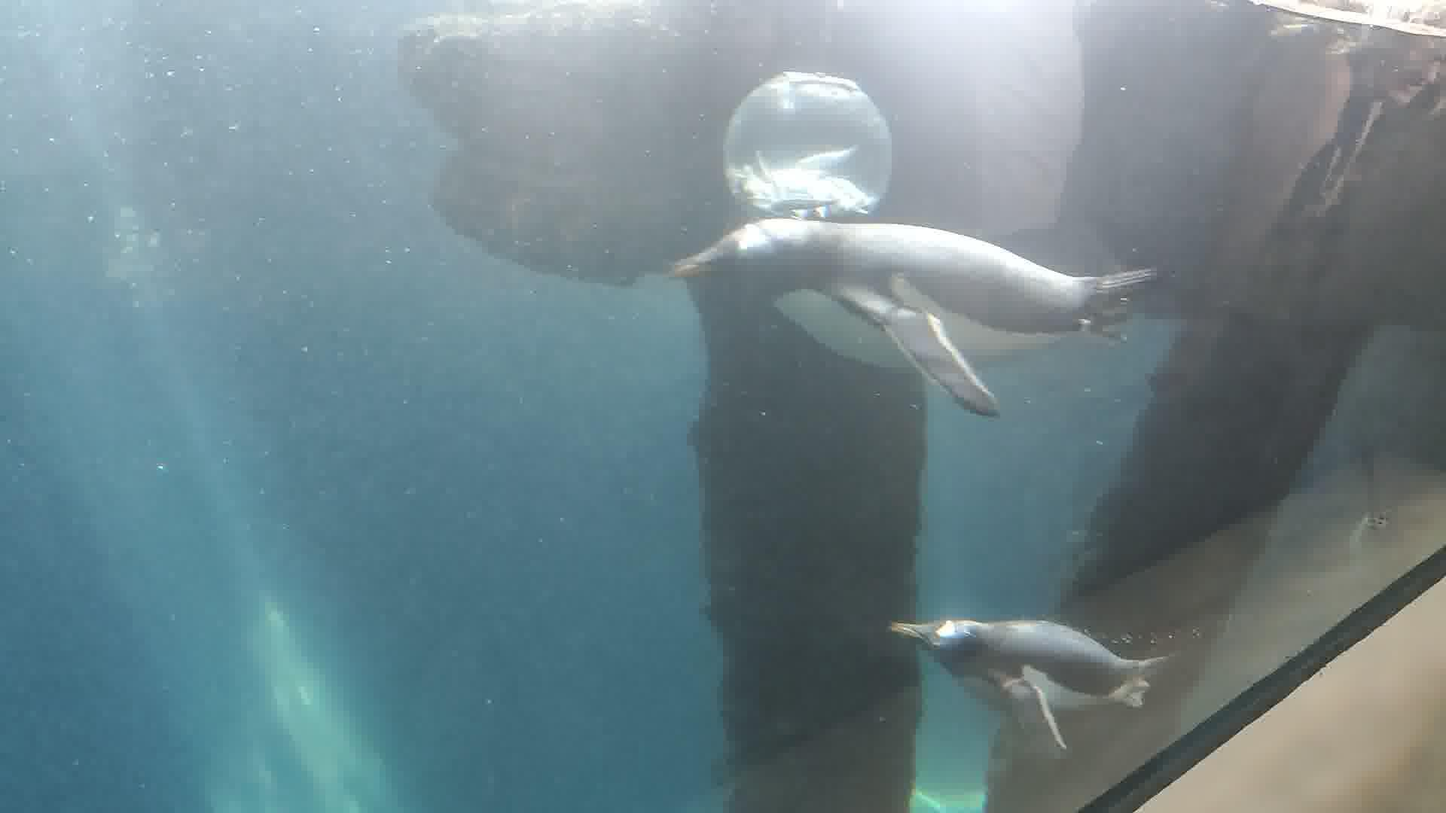apple: (669, 218, 1157, 421), (890, 619, 1169, 751)
